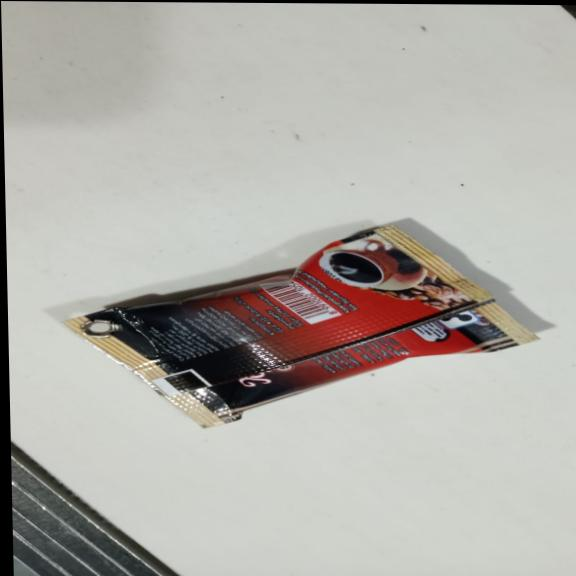Plastik: (53, 219, 544, 431)
